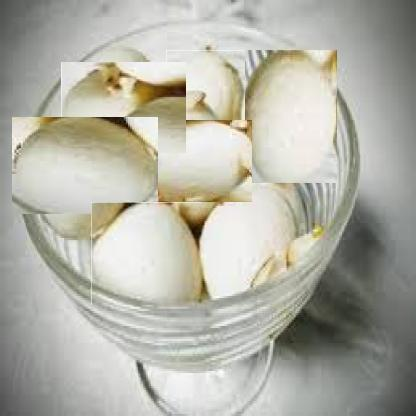rasgulla: (24, 104, 146, 226), (239, 49, 337, 183), (70, 53, 178, 162), (91, 202, 202, 305), (200, 187, 299, 301), (135, 108, 241, 214), (166, 50, 245, 151)
